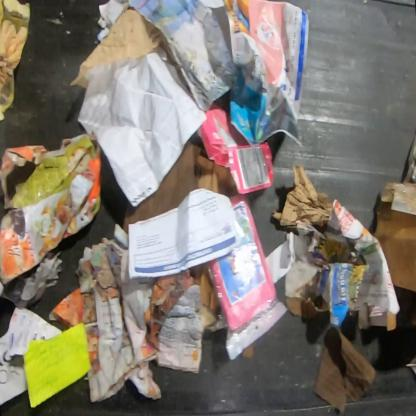cardboard: (0, 132, 103, 286), (124, 142, 239, 227), (198, 108, 275, 196), (314, 324, 379, 415), (374, 180, 415, 294), (271, 163, 333, 228), (191, 262, 219, 320)
soft_plastic: (205, 194, 287, 362)
